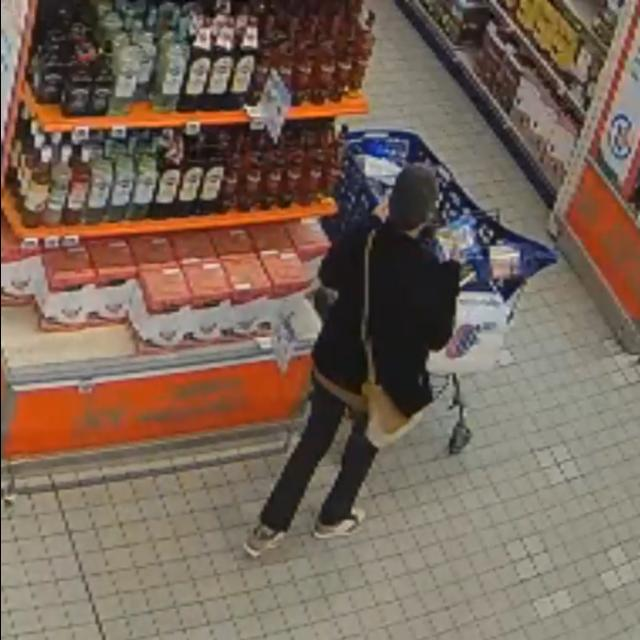article: (436, 216, 483, 263)
bags: (362, 232, 423, 448)
hands: (374, 199, 389, 221), (449, 244, 465, 264)
person: (245, 166, 459, 557)
